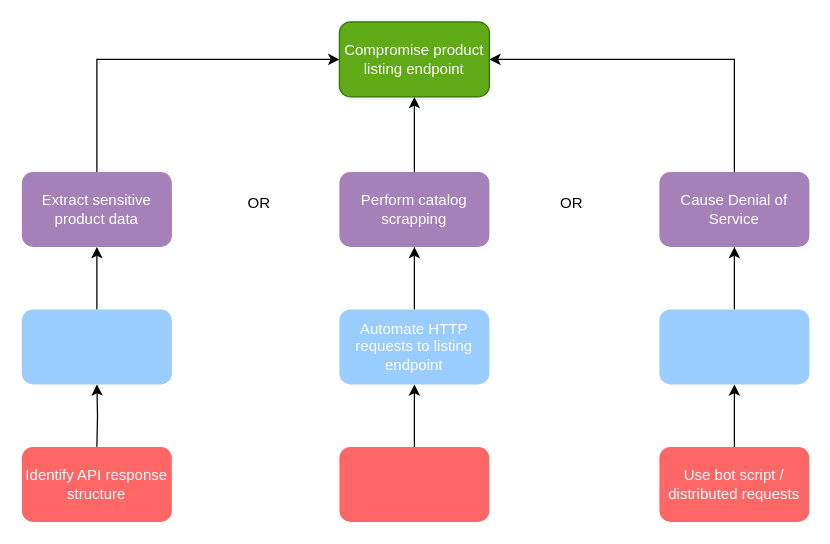
This 830x544 diagram has some shape labels left out. The shapes that lost their labels are listed below. From the top down, each one's box as (x1, y1, x2, y2) in pixels, then its label:
(21, 309, 171, 384): Access internal product fields
(659, 309, 809, 384): Send high-volume concurrent requests
(339, 446, 489, 521): Write script to iterate pagination/filter params
